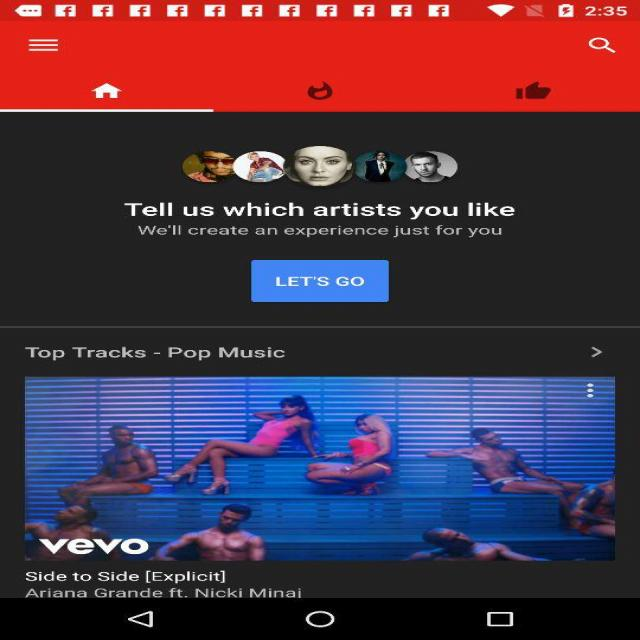button: (248, 255, 394, 302), (580, 381, 606, 406)
icon: (19, 31, 79, 57), (507, 78, 558, 104), (296, 77, 346, 102), (582, 33, 626, 61), (82, 80, 134, 102), (580, 338, 610, 367)
image: (22, 373, 618, 568), (172, 143, 468, 188)
text: (115, 198, 527, 223), (16, 568, 318, 602), (17, 339, 296, 369), (123, 222, 514, 240), (34, 535, 159, 560), (268, 272, 374, 293)
